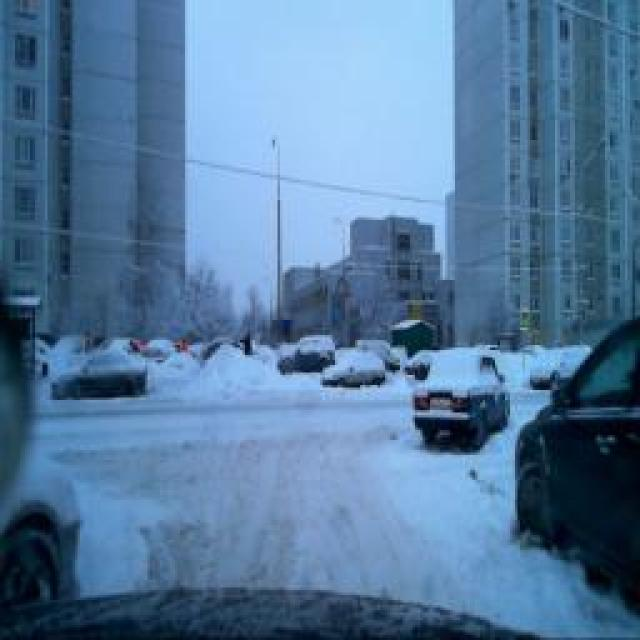sign: (521, 308, 529, 330)
